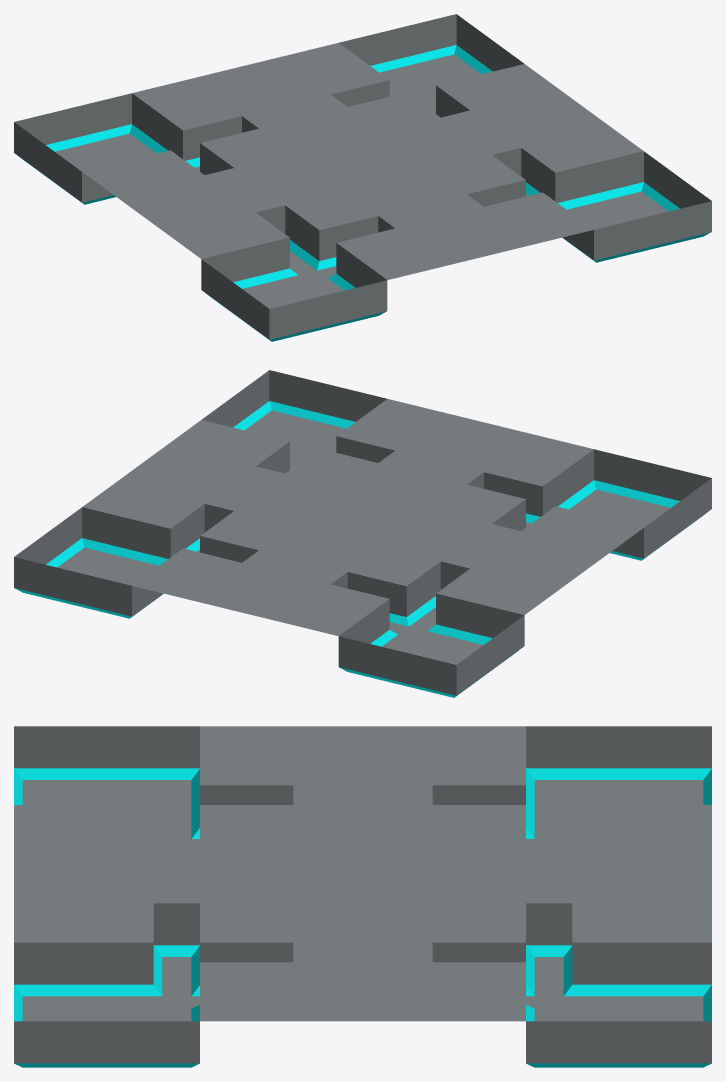
Rendered from bottom.fbx.
3 views of the same model, one above another, from view 1: azimuth 30°, elevation 25°; view 2: azimuth 150°, elevation 25°; view 3: azimuth 270°, elevation 25° (orthographic). The views are drawn at different scales.
Parts seen in each view (by area): view 1: pCube6; view 2: pCube6; view 3: pCube6.
Boxes of the visible parts, bbox=[...] form: pCube6: bbox=[14, 14, 711, 341]; pCube6: bbox=[14, 370, 711, 697]; pCube6: bbox=[14, 726, 711, 1067].
Size of the model in its own units: 240 by 240 by 19.
